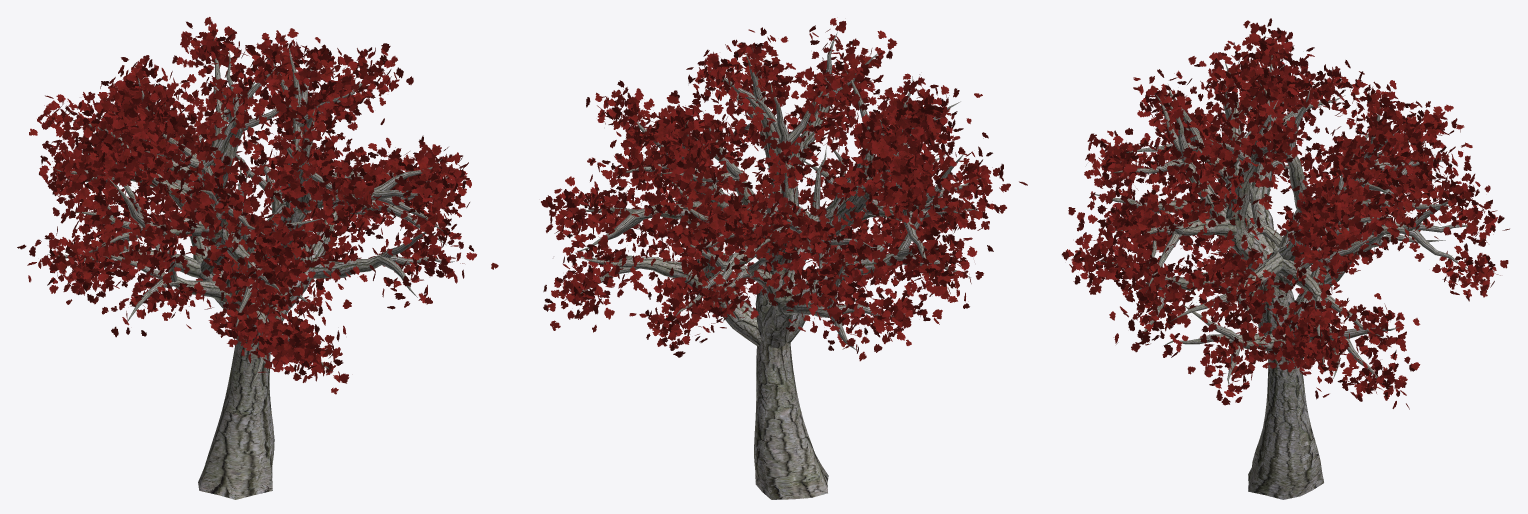
The picture shows the model from 3 angles, left to right: view 1: azimuth 30°, elevation 25°; view 2: azimuth 150°, elevation 25°; view 3: azimuth 270°, elevation 25°; orthographic projection. The views are drawn at different scales.
Visible parts, largest first — view 1: Arce foliage cards, Arce_EasyTree_V021_Proof; view 2: Arce foliage cards, Arce_EasyTree_V021_Proof; view 3: Arce foliage cards, Arce_EasyTree_V021_Proof.
Boxes of the visible parts, x1,y1,x2,y2 form: Arce foliage cards: (17, 17, 498, 394); Arce_EasyTree_V021_Proof: (47, 36, 454, 499); Arce foliage cards: (541, 18, 1027, 361); Arce_EasyTree_V021_Proof: (575, 32, 981, 499); Arce foliage cards: (1061, 18, 1509, 409); Arce_EasyTree_V021_Proof: (1091, 55, 1467, 499).
Bounding box in the file's own units: 7.14 × 6.81 × 6.73.
2 materials, 2 textured.
